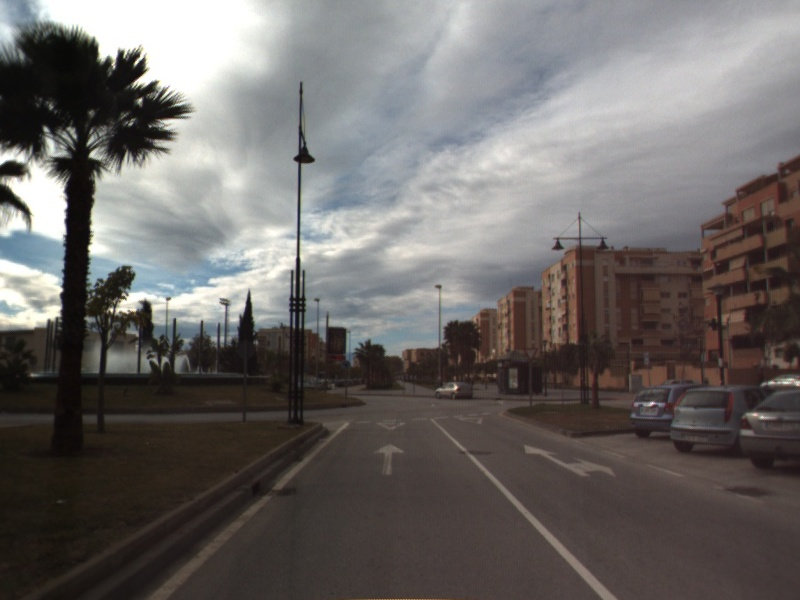STRAIGHT: (372, 441, 406, 477)
STRAIGHT_RIGHT: (523, 443, 617, 479)
